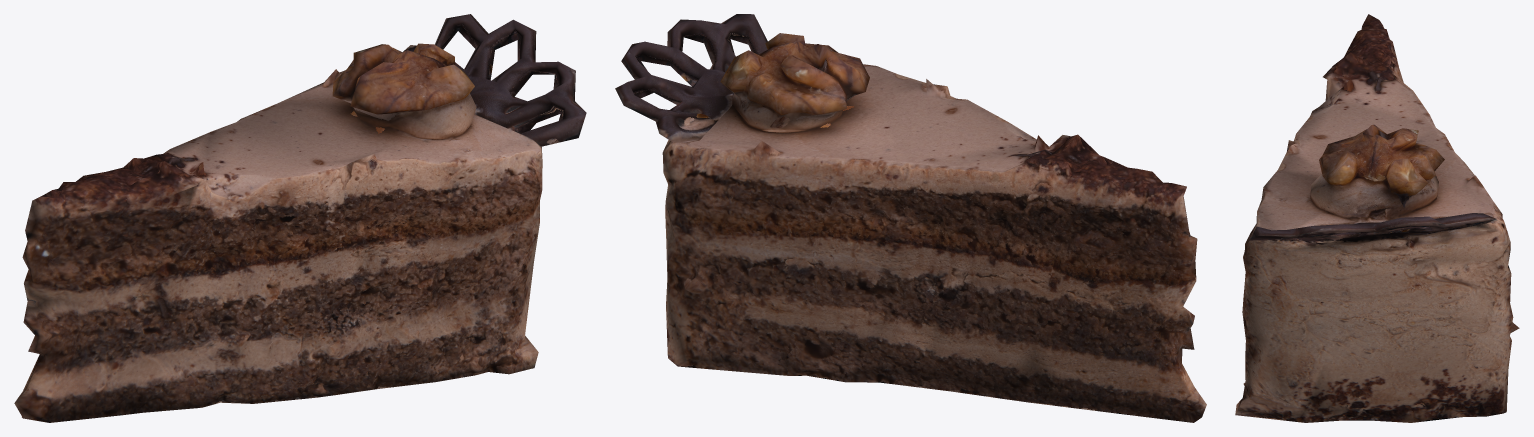
The model's file is cake_3.fbx.
The picture shows the model from 3 angles, left to right: view 1: azimuth 30°, elevation 25°; view 2: azimuth 150°, elevation 25°; view 3: azimuth 270°, elevation 25°; orthographic projection. The views are drawn at different scales.
Visible parts, largest first — view 1: cake_3; view 2: cake_3; view 3: cake_3.
Boxes of the visible parts, left/top/right/bottom form: cake_3: left=14, top=14, right=586, bottom=422; cake_3: left=615, top=14, right=1206, bottom=422; cake_3: left=1235, top=14, right=1519, bottom=422.
Bounding box in the file's own units: 18.54 × 9.13 × 9.06.
